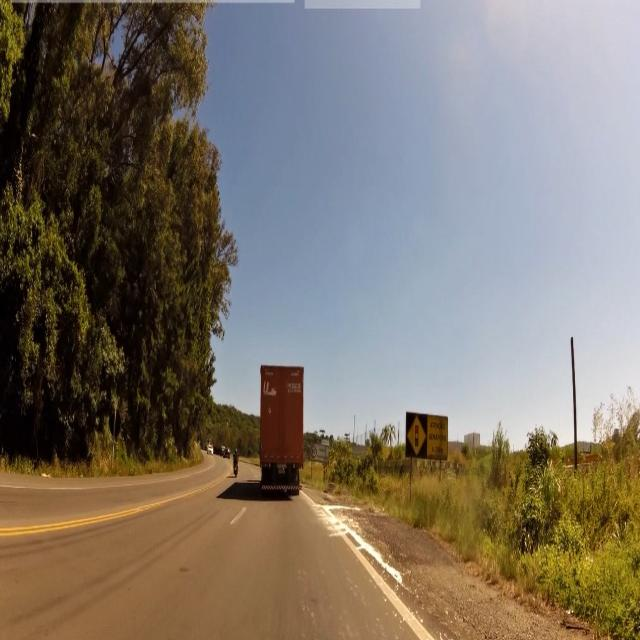R-19: (407, 414, 426, 455)
